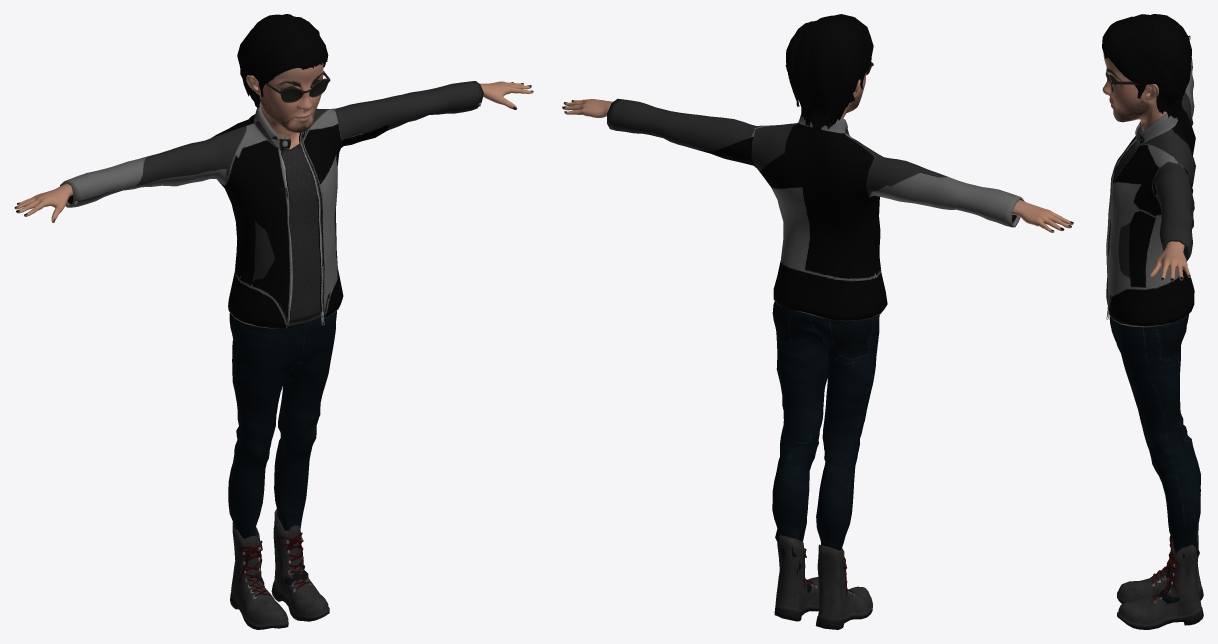
File: Rockero.obj
3 renders of one model, left to right at view 1: azimuth 30°, elevation 25°; view 2: azimuth 150°, elevation 25°; view 3: azimuth 270°, elevation 25°, orthographic.
Parts seen in each view (by area): view 1: Tops, Bottoms, Shoes, Body, Hair; view 2: Tops, Bottoms, Hair, Shoes, Body; view 3: Tops, Bottoms, Hair, Shoes, Body.
Boxes of the visible parts, x1,y1,x2,y2 form: Tops: (60,81,483,328); Bottoms: (228,311,336,585); Shoes: (230,509,329,629); Body: (14,63,533,222); Hair: (237,14,328,107); Tops: (607,98,1024,321); Bottoms: (772,301,879,592); Hair: (785,14,873,131); Shoes: (774,535,872,629); Body: (562,72,1073,232); Tops: (1106,57,1195,327); Bottoms: (1109,314,1200,603); Hair: (1102,14,1191,120); Shoes: (1117,525,1203,629); Body: (1102,35,1190,281).
Bounding box in the file's own units: 153 × 170 × 26.28.
2 materials, 2 textured.
